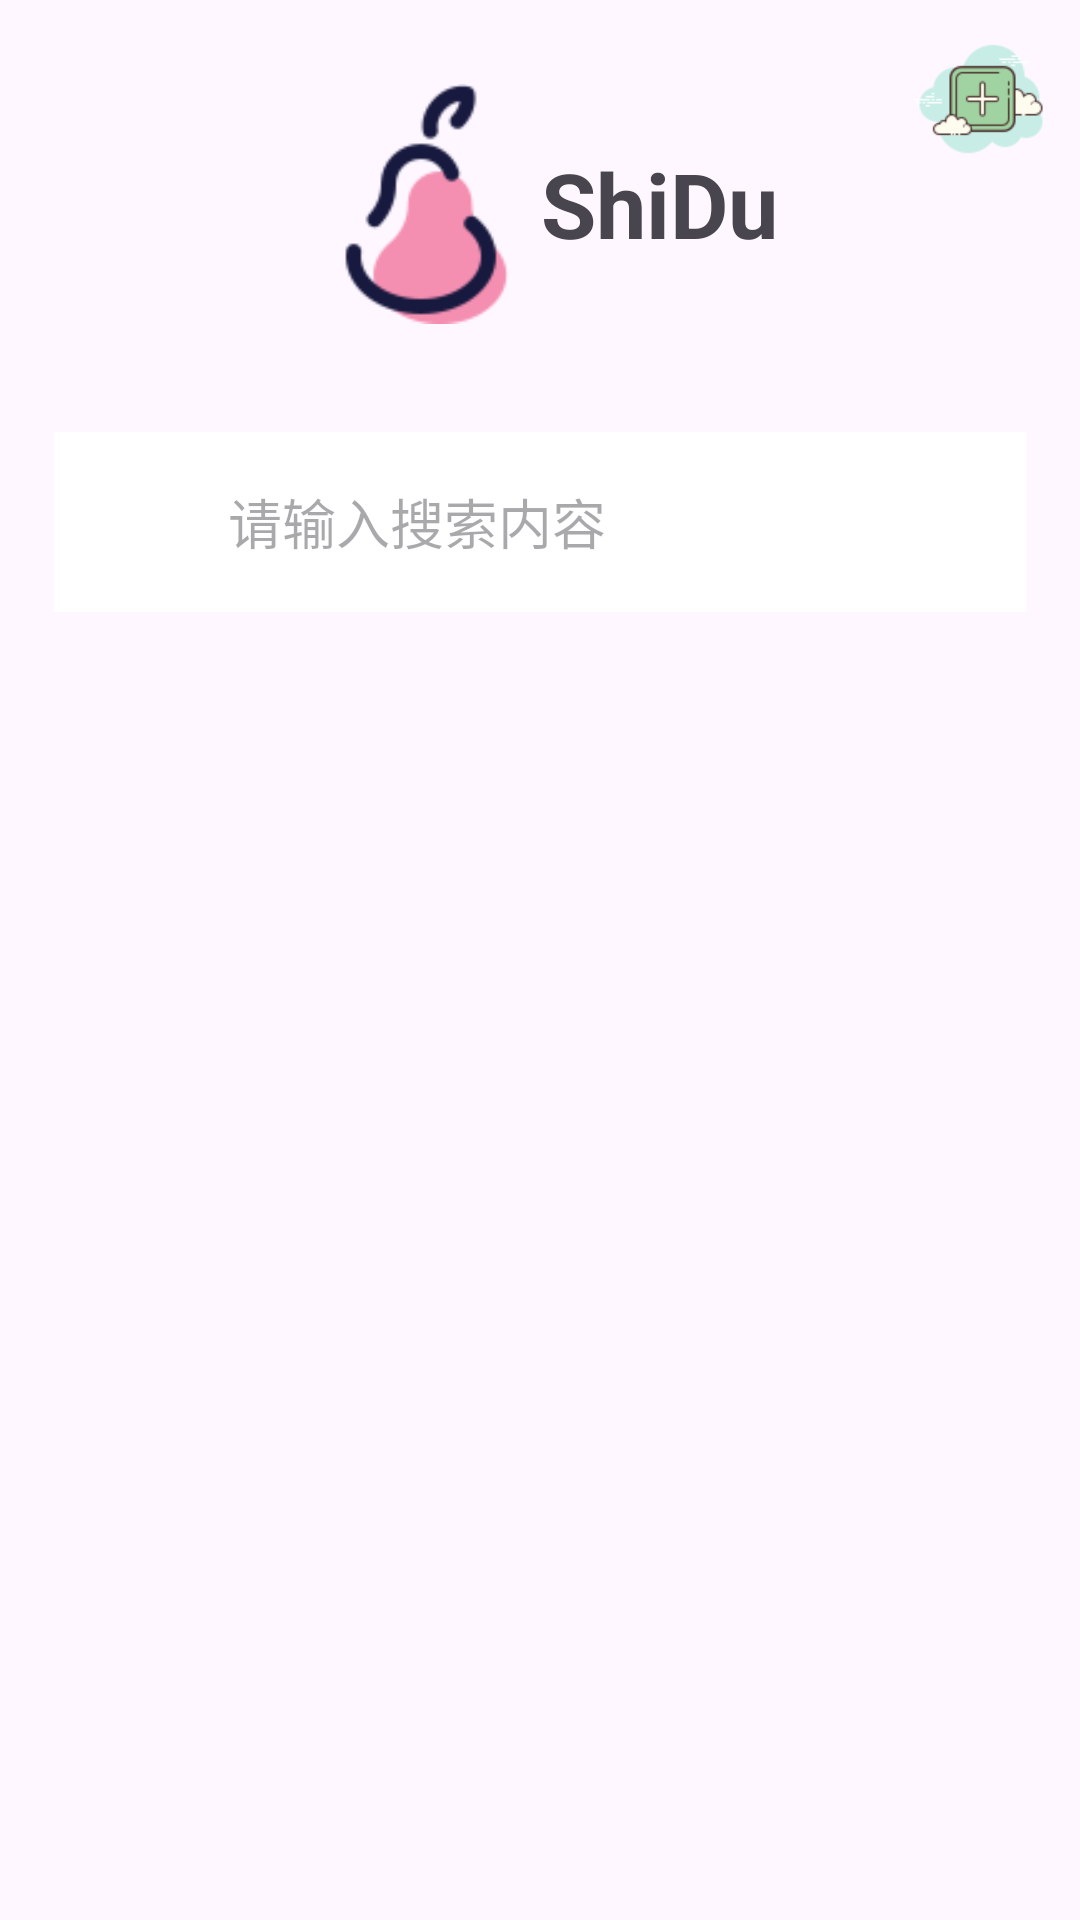

Where icons sit on this 1080*1920 app screen, as (x1, y1, x2, y2):
addnew: (919, 45, 1043, 153)
